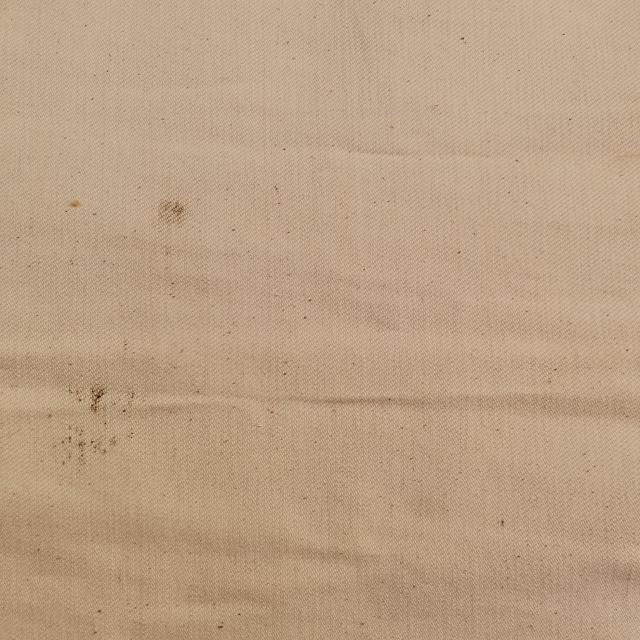taaaches: (43, 380, 153, 471), (154, 199, 198, 231), (60, 195, 90, 215)
